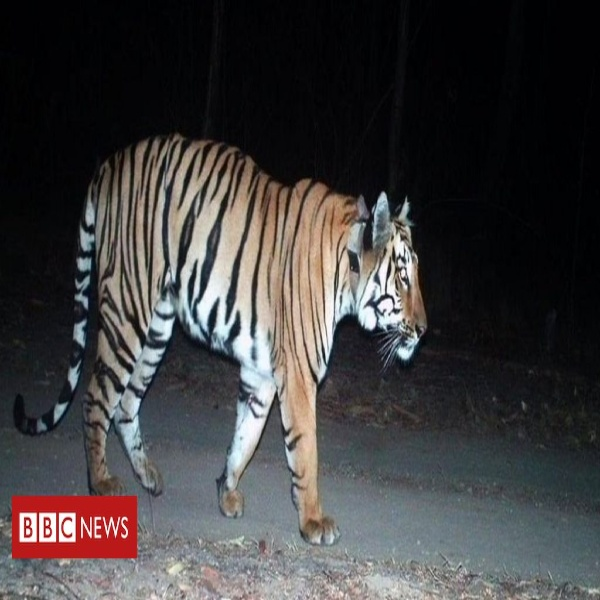Tiger: (16, 127, 433, 549)
